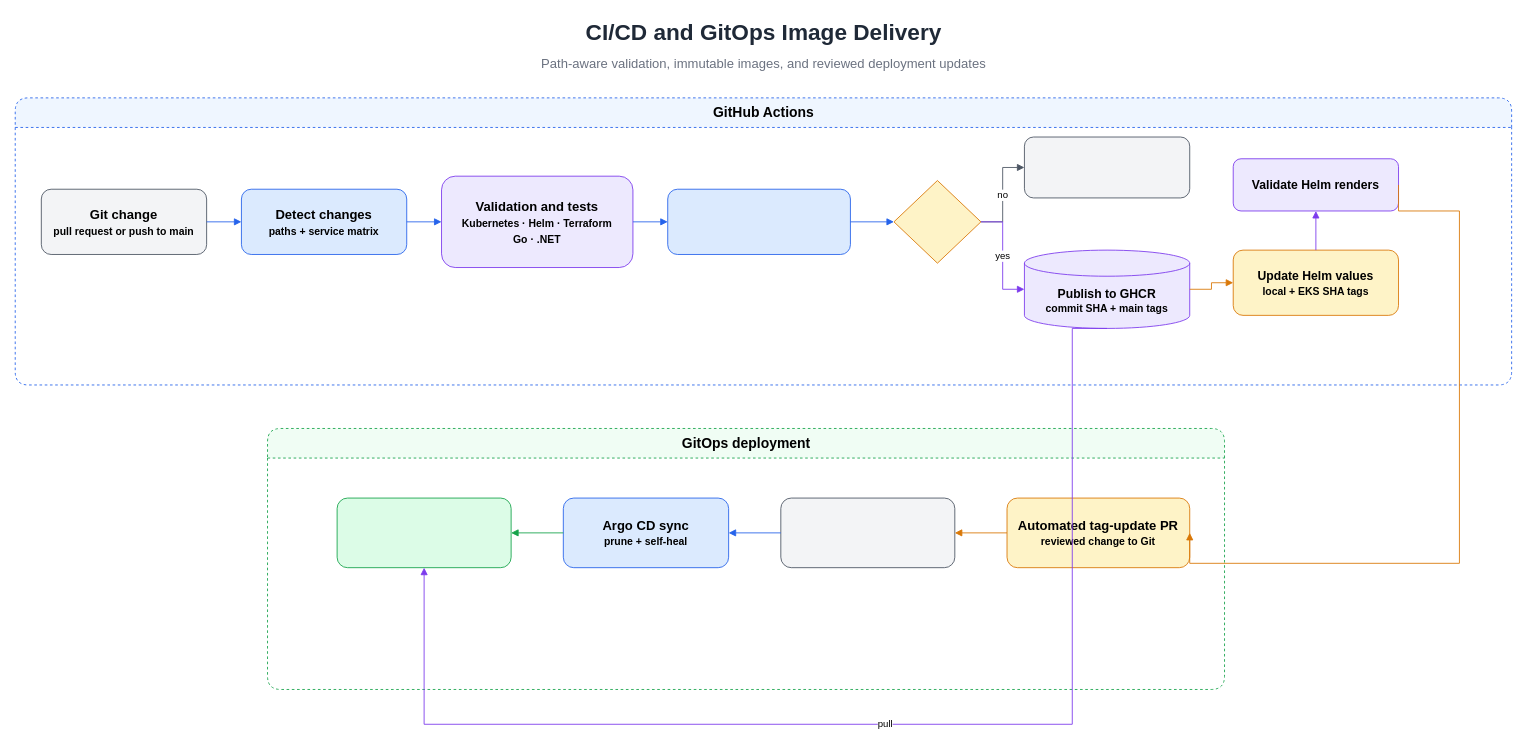
This 1527x746 diagram has some shape labels left out. Each missing label, with the centre of its shape:
Build affected images Docker Buildx matrix: (x=758, y=221)
Kubernetes workloads local + EKS pull immutable SHA: (x=423, y=532)
main?: (x=937, y=221)
Merge to main Git is source of truth: (x=867, y=532)
PR verification no image publication: (x=1107, y=167)
